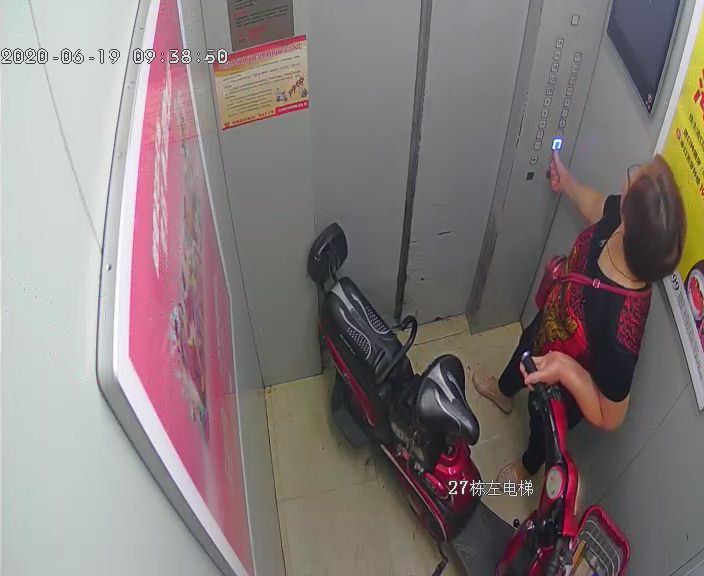Electric-bicycle: (307, 222, 628, 576)
